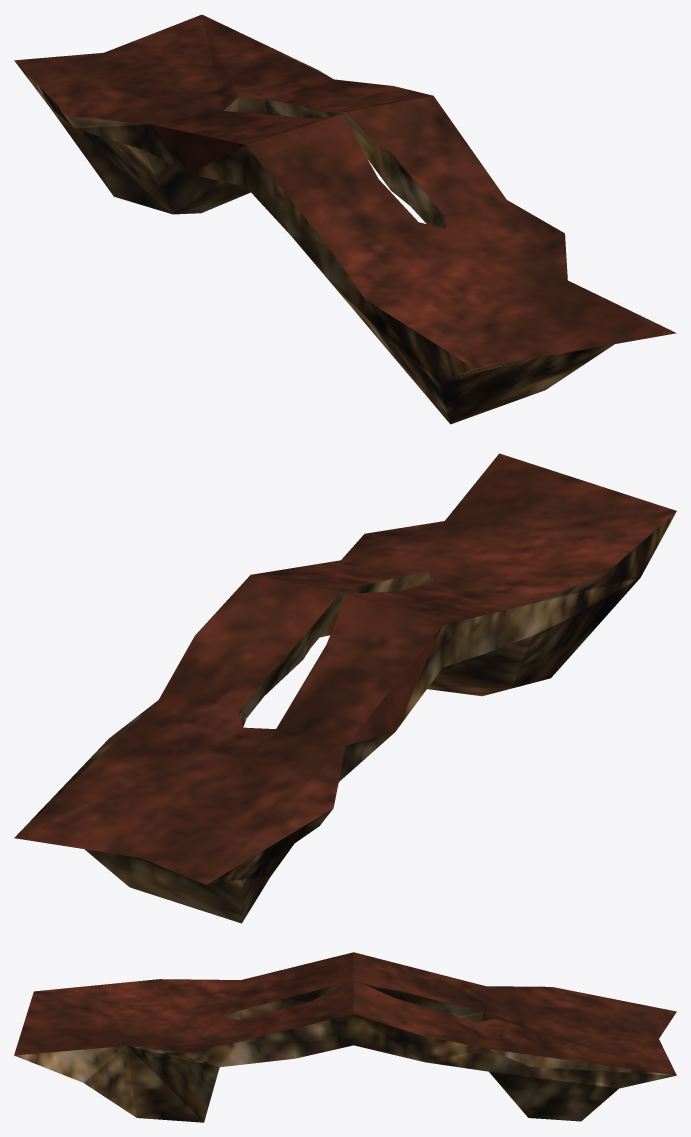
The model's file is facingworlds6.gltf.
3 views of the same model, one above another, from view 1: azimuth 30°, elevation 25°; view 2: azimuth 150°, elevation 25°; view 3: azimuth 270°, elevation 25° (orthographic). The views are drawn at different scales.
Parts seen in each view (by area): view 1: Plane.001; view 2: Plane.001; view 3: Plane.001.
Part boxes in pixels (left/top/right/bottom): Plane.001: left=14, top=14, right=676, bottom=424; Plane.001: left=14, top=453, right=676, bottom=923; Plane.001: left=14, top=952, right=676, bottom=1122.
Size of the model in its own units: 32.88 by 26.87 by 115.
2 materials, 2 textured.
